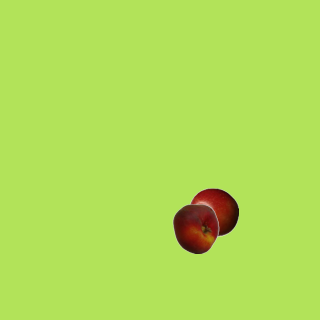Apple Braeburn: (188, 187, 238, 237)
Nectarine Flat: (170, 203, 220, 253)
